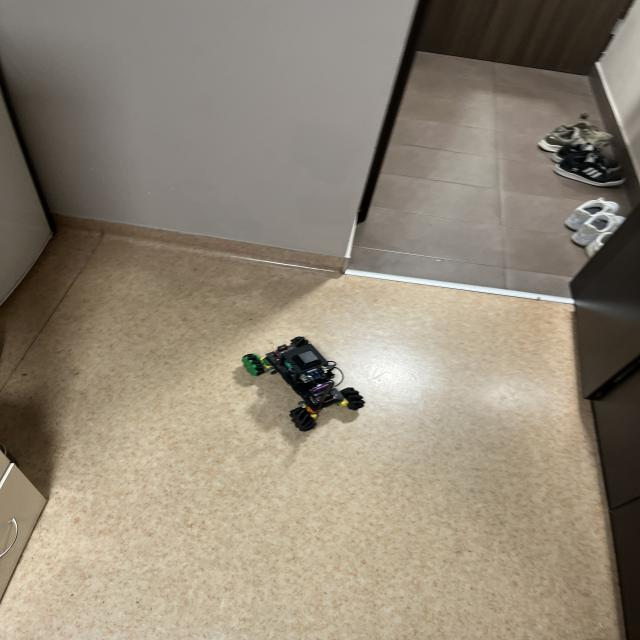robot: (241, 336, 364, 431)
